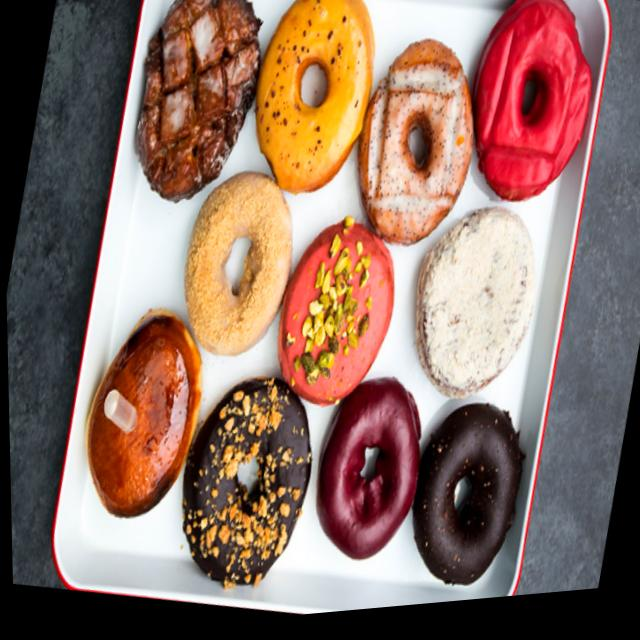donut: (159, 357, 328, 610), (451, 0, 610, 228), (334, 41, 490, 269), (65, 298, 211, 534), (235, 0, 390, 211), (260, 211, 408, 428), (391, 396, 537, 613), (297, 367, 433, 580), (165, 171, 302, 371)
